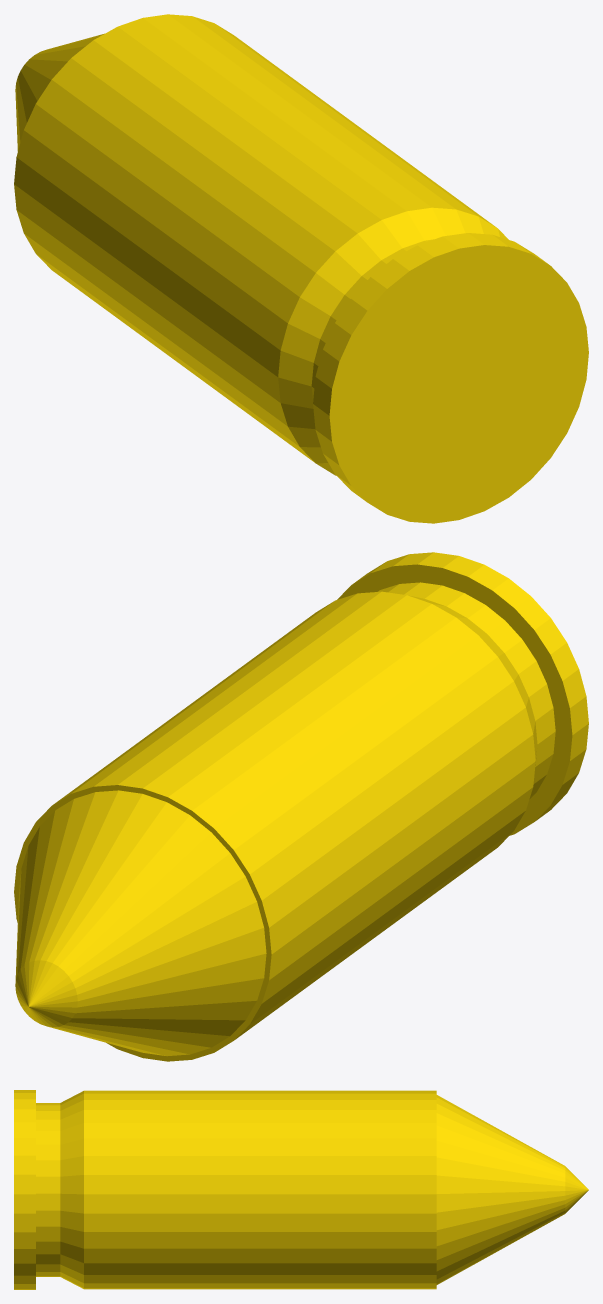
Rendered from bullet.glb.
3 views of the same model, one above another, from view 1: azimuth 30°, elevation 25°; view 2: azimuth 150°, elevation 25°; view 3: azimuth 270°, elevation 25° (orthographic). The views are drawn at different scales.
Parts seen in each view (by area): view 1: Círculo; view 2: Círculo; view 3: Círculo.
Boxes of the visible parts, x1=… form: Círculo: x1=14, y1=14, x2=588, y2=523; Círculo: x1=14, y1=552, x2=588, y2=1061; Círculo: x1=14, y1=1090, x2=588, y2=1289.
Size of the model in its own units: 0.2 by 0.2 by 0.5748.
